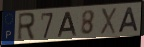7: (40, 12, 55, 40)
8: (80, 9, 96, 36)
A: (117, 6, 140, 34), (56, 11, 78, 38)
R: (16, 12, 37, 43)
X: (99, 7, 117, 36)
